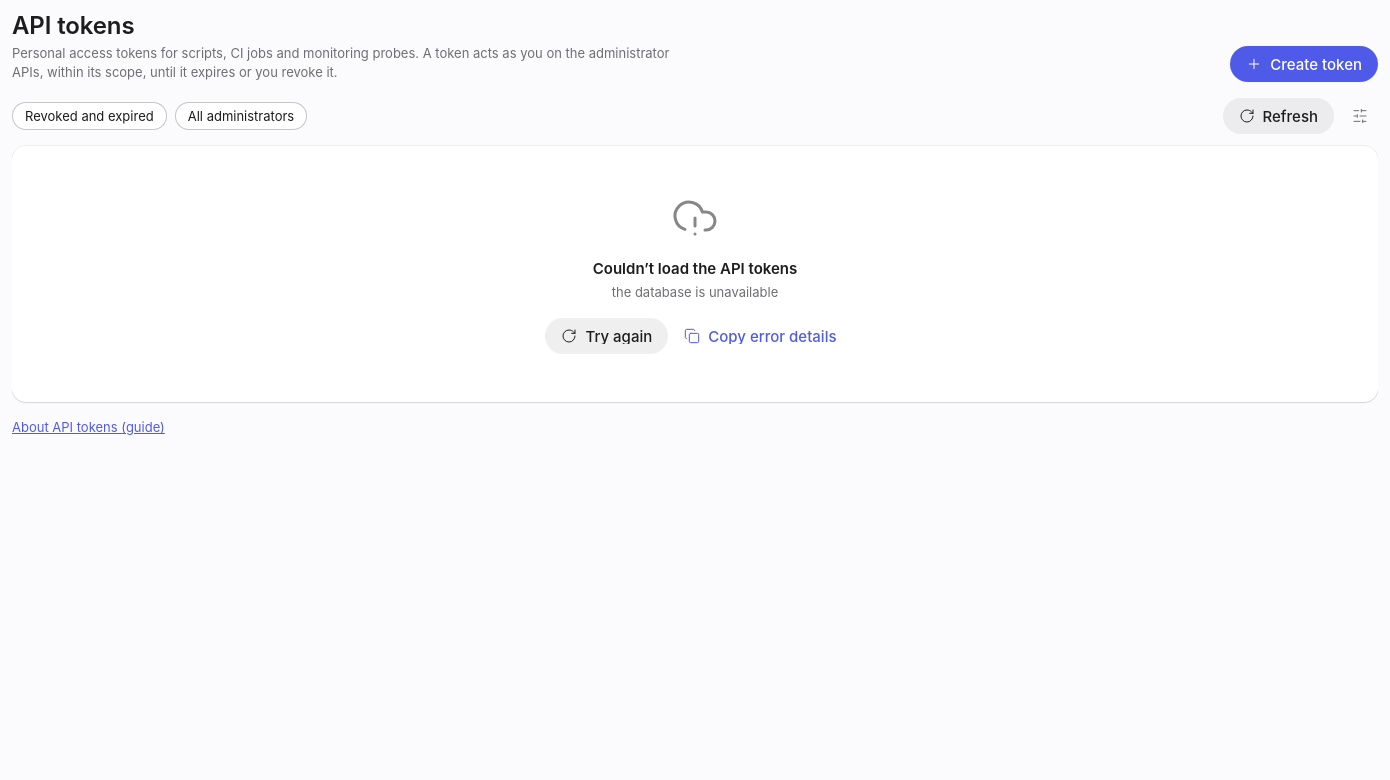
Admin API tokens › shows the load error with Try again, and loads again on it
Expected: the heading "API tokens" is shown, x1=12 y1=11 x2=134 y2=40
Expected: the heading "Couldn’t load the API tokens" is shown, x1=593 y1=258 x2=797 y2=280
Click the button "Try again" at (607, 336), box x1=546 y1=318 x2=668 y2=354
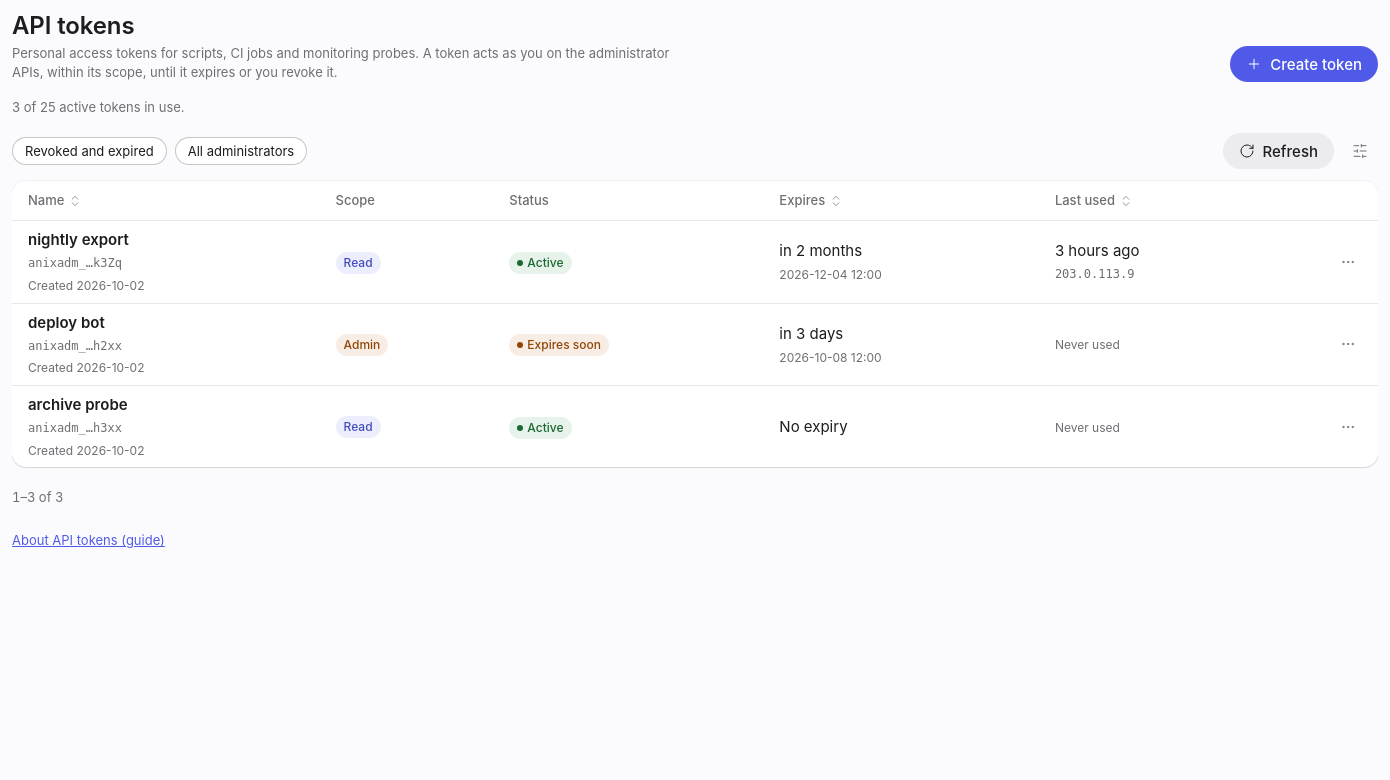
Expected: the row "nightly export" is shown, x1=12 y1=221 x2=1378 y2=304
